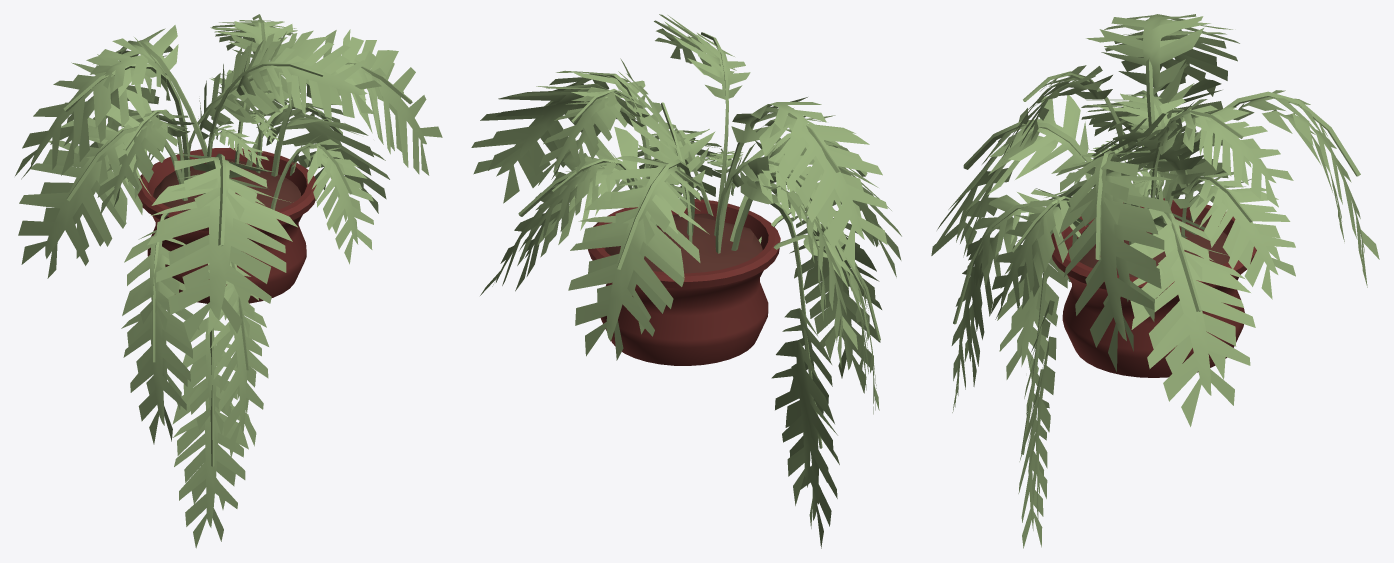
Rendered from Plant02.fbx.
3 views of the same model, side by side, from view 1: azimuth 30°, elevation 25°; view 2: azimuth 150°, elevation 25°; view 3: azimuth 270°, elevation 25° (orthographic). The views are drawn at different scales.
Parts seen in each view (by area): view 1: Plant02; view 2: Plant02; view 3: Plant02.
Part boxes in pixels (x1,y1,x2,y2): Plant02: (15,14,442,548); Plant02: (471,14,901,548); Plant02: (931,14,1379,548).
Size of the model in its own units: 81.17 by 90.76 by 67.89.
